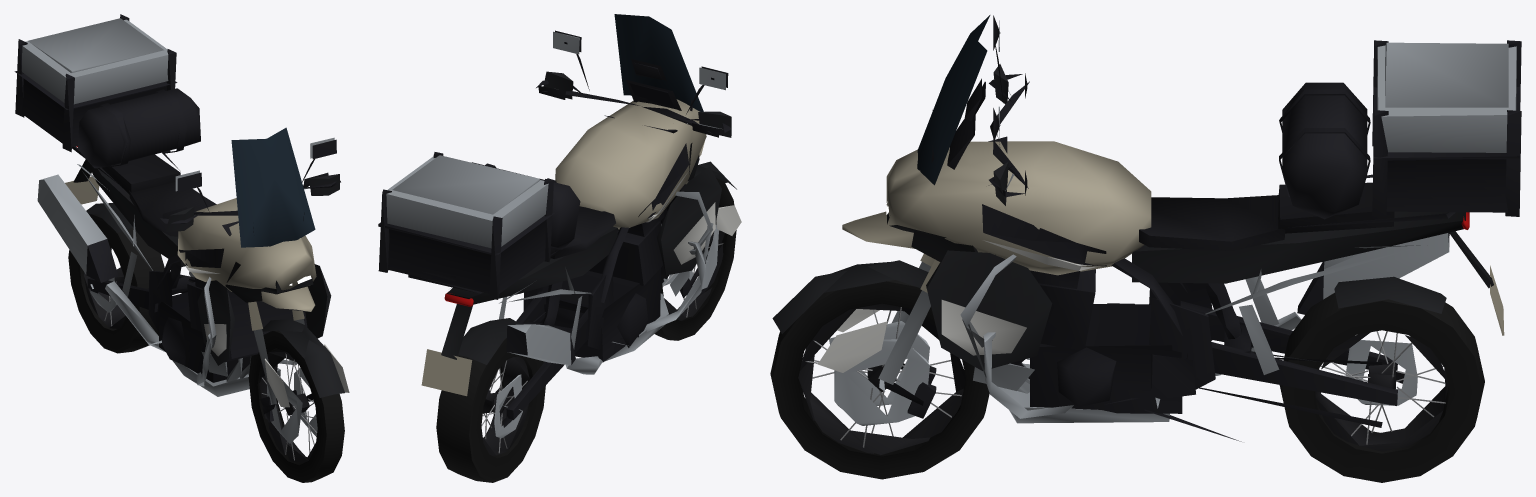
Rendered from bike10_tiger900.glb.
3 views of the same model, side by side, from view 1: azimuth 30°, elevation 25°; view 2: azimuth 150°, elevation 25°; view 3: azimuth 270°, elevation 25° (orthographic). The views are drawn at different scales.
Visible parts, largest first — view 1: body, wheel_front, wheel_rear; view 2: body, wheel_rear, wheel_front; view 3: body, wheel_rear, wheel_front.
Boxes of the visible parts, bbox=[...] form: body: bbox=[14, 14, 349, 422]; wheel_front: bbox=[248, 330, 344, 482]; wheel_rear: bbox=[68, 214, 164, 353]; body: bbox=[378, 14, 741, 427]; wheel_rear: bbox=[436, 338, 545, 482]; wheel_front: bbox=[655, 178, 736, 340]; body: bbox=[772, 15, 1521, 441]; wheel_rear: bbox=[1279, 292, 1484, 482]; wheel_front: bbox=[770, 280, 989, 479].
Size of the model in its own units: 0.888 by 1.52 by 2.34.
